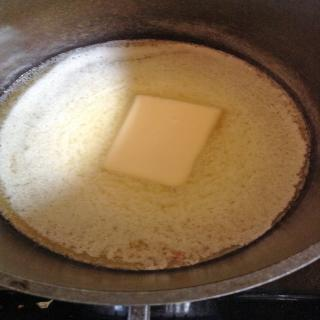Cheese: (99, 92, 226, 190)
